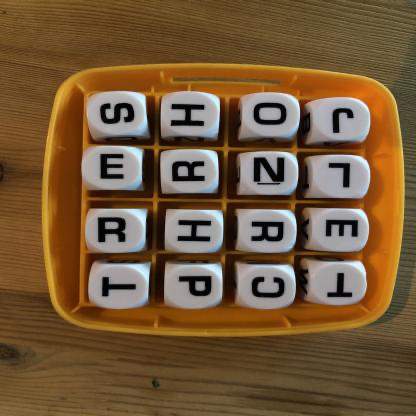c: (237, 264, 296, 310)
e: (85, 147, 144, 191), (312, 209, 370, 253)
h: (166, 210, 224, 254), (162, 93, 220, 136)
j: (312, 98, 371, 141)
l: (313, 156, 371, 199)
n: (240, 152, 298, 196)
o: (243, 95, 300, 138)
p: (166, 264, 224, 310)
r: (86, 210, 146, 254), (162, 150, 220, 195), (238, 209, 296, 253)
s: (89, 93, 148, 137)
t: (88, 264, 149, 311), (309, 261, 367, 307)
